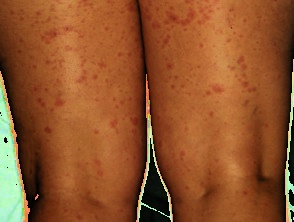SJS-TEN: (4, 0, 151, 195), (140, 0, 276, 150)
